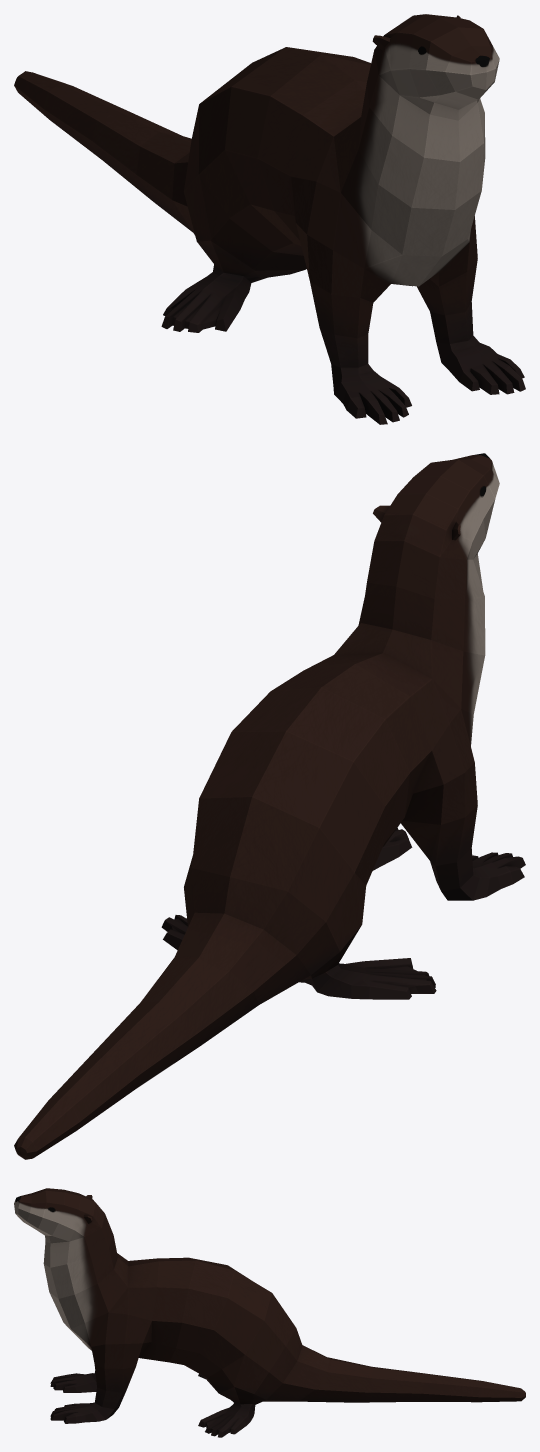
Rendered from river_otter.glb.
3 views of the same model, one above another, from view 1: azimuth 30°, elevation 25°; view 2: azimuth 150°, elevation 25°; view 3: azimuth 270°, elevation 25° (orthographic). The views are drawn at different scales.
Parts seen in each view (by area): view 1: node-0; view 2: node-0; view 3: node-0.
Part boxes in pixels (bbox=[...]): node-0: bbox=[14, 14, 525, 424]; node-0: bbox=[14, 453, 525, 1159]; node-0: bbox=[14, 1188, 525, 1437].
Bounding box in the file's own units: 3.24 × 4.36 × 9.59.
1 material, 1 textured.
